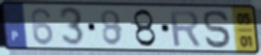3: (59, 5, 85, 49)
6: (29, 6, 56, 47)
8: (132, 8, 158, 48), (99, 8, 123, 47)
R: (167, 9, 203, 49)
S: (201, 8, 234, 50)
